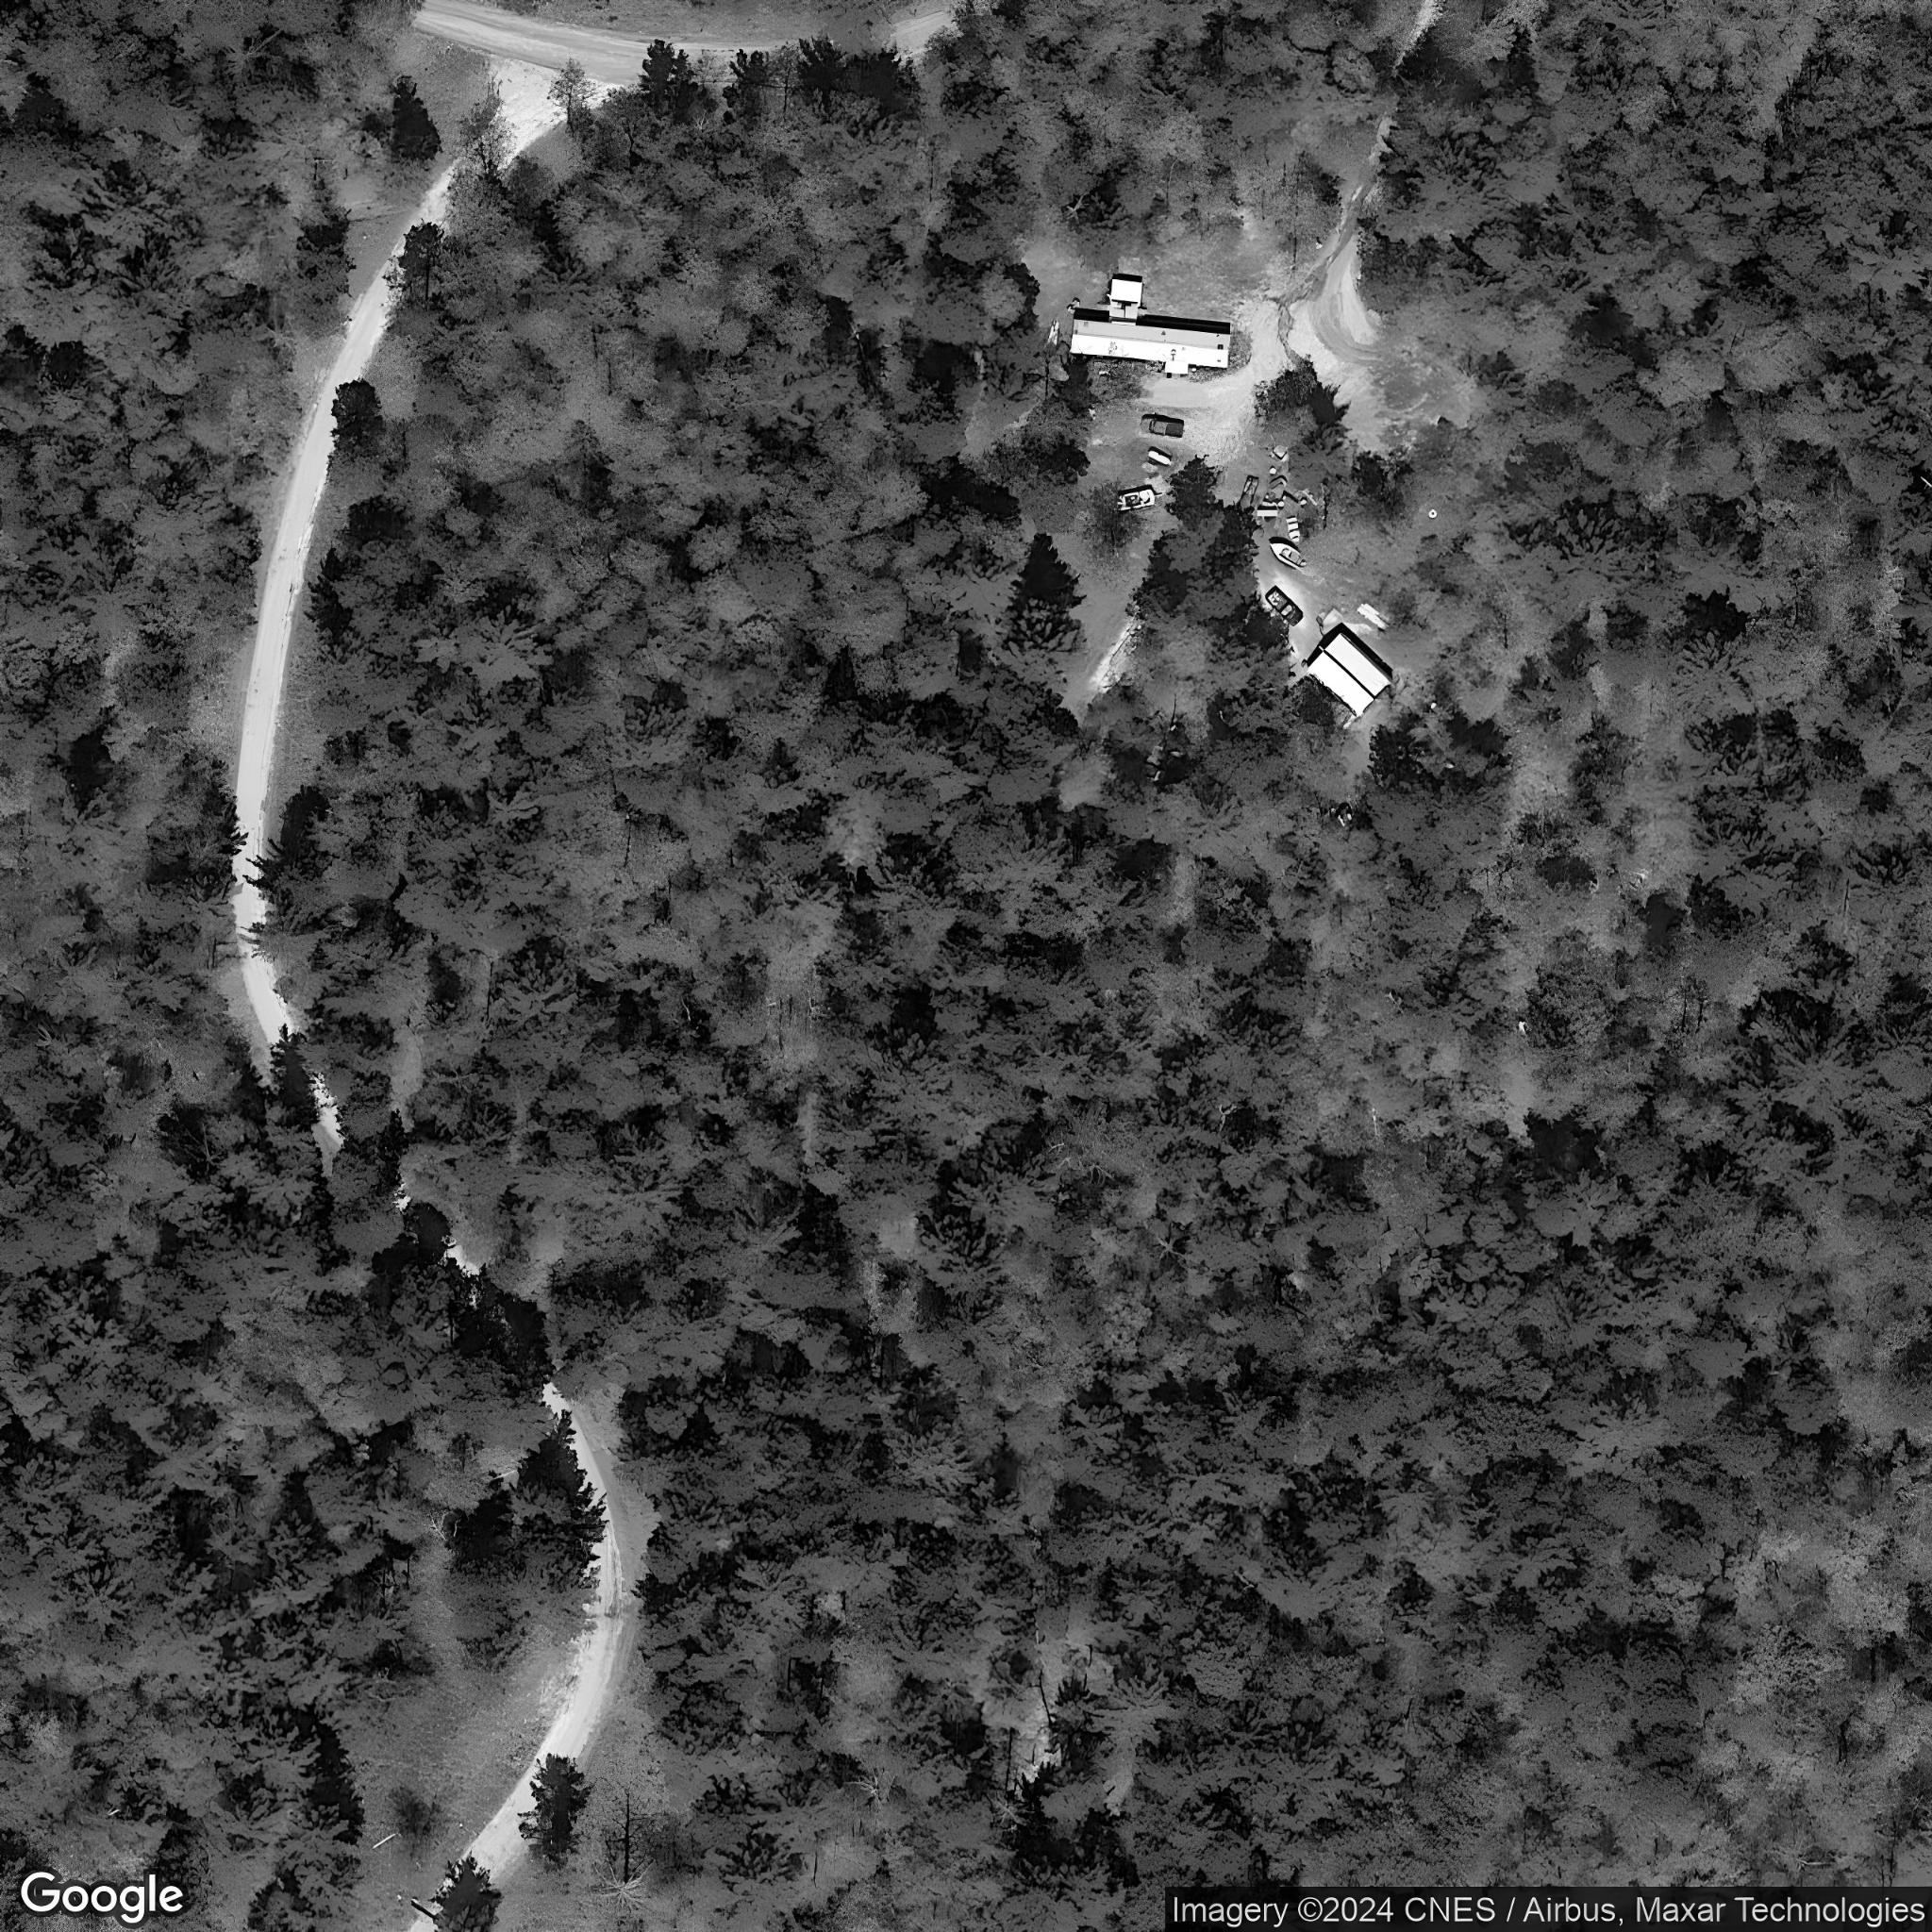Garage: (1304, 628, 1398, 720)
Propane: (1143, 442, 1177, 469)
Trailer: (1069, 317, 1233, 375)
